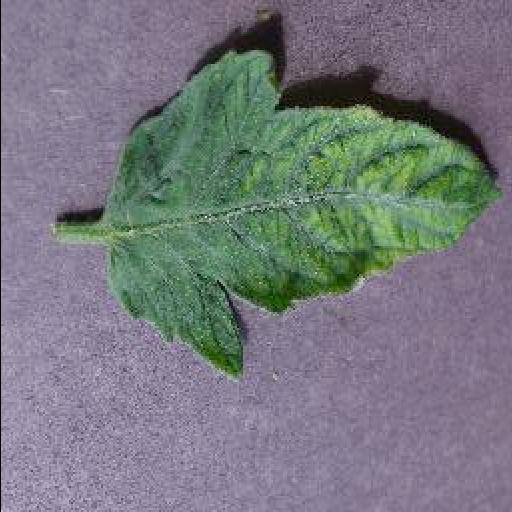disease_tomato: (101, 49, 503, 383)
